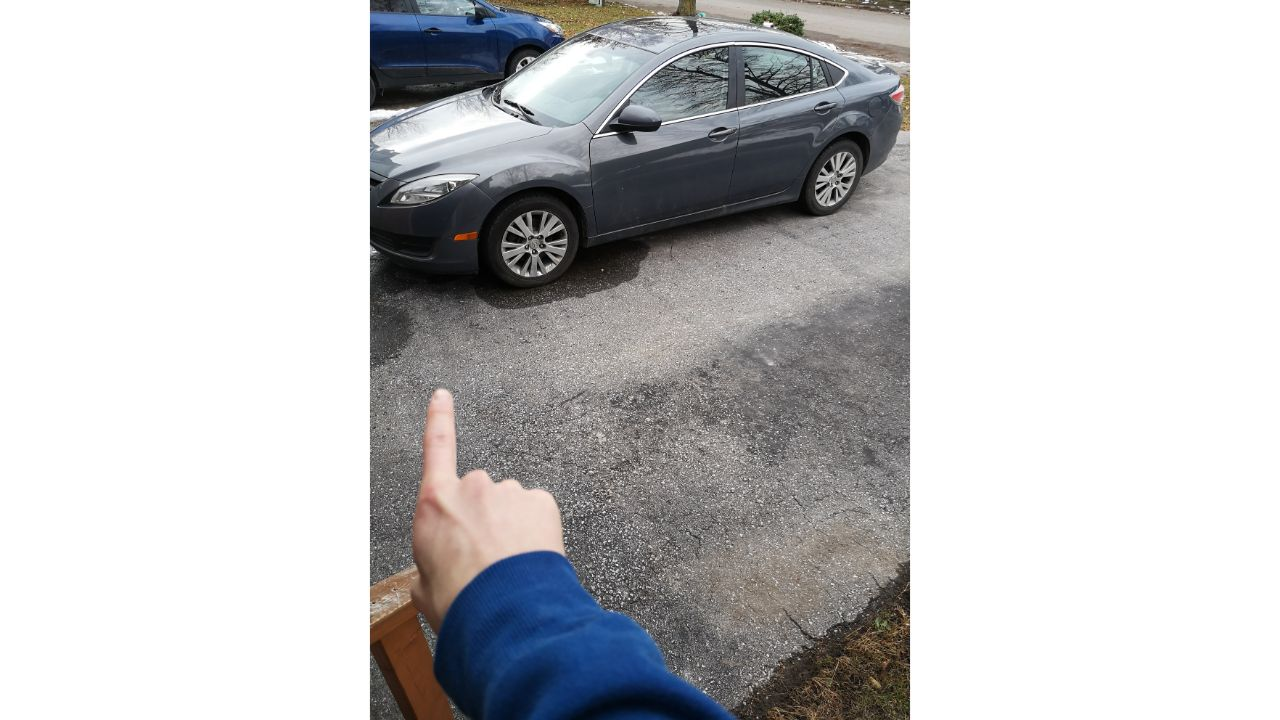car: (369, 25, 908, 277)
finger: (411, 383, 573, 621)
